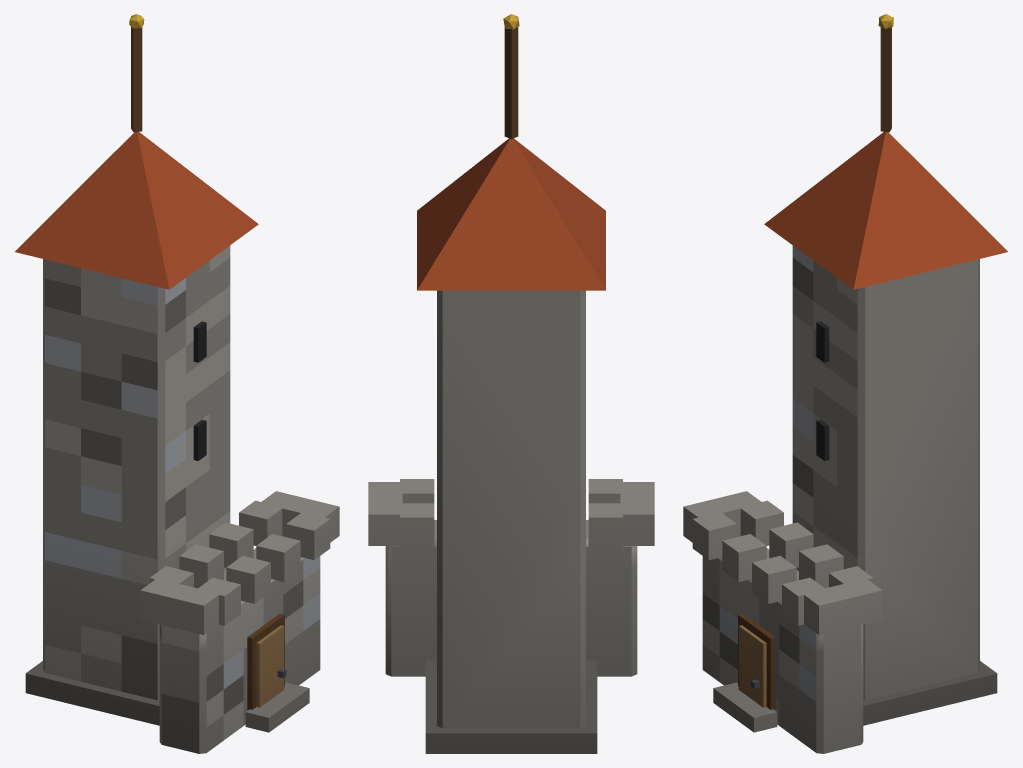
Rendered from building_23.glb.
The picture shows the model from 3 angles, left to right: view 1: azimuth 30°, elevation 25°; view 2: azimuth 150°, elevation 25°; view 3: azimuth 270°, elevation 25°; orthographic projection. The views are drawn at different scales.
Visible parts, largest first — view 1: building_23; view 2: building_23; view 3: building_23.
Part boxes in pixels (bbox=[...]): building_23: bbox=[15, 14, 339, 753]; building_23: bbox=[368, 14, 654, 753]; building_23: bbox=[683, 14, 1007, 753].
Bounding box in the file's own units: 0.5857 × 1.36 × 0.5994.
